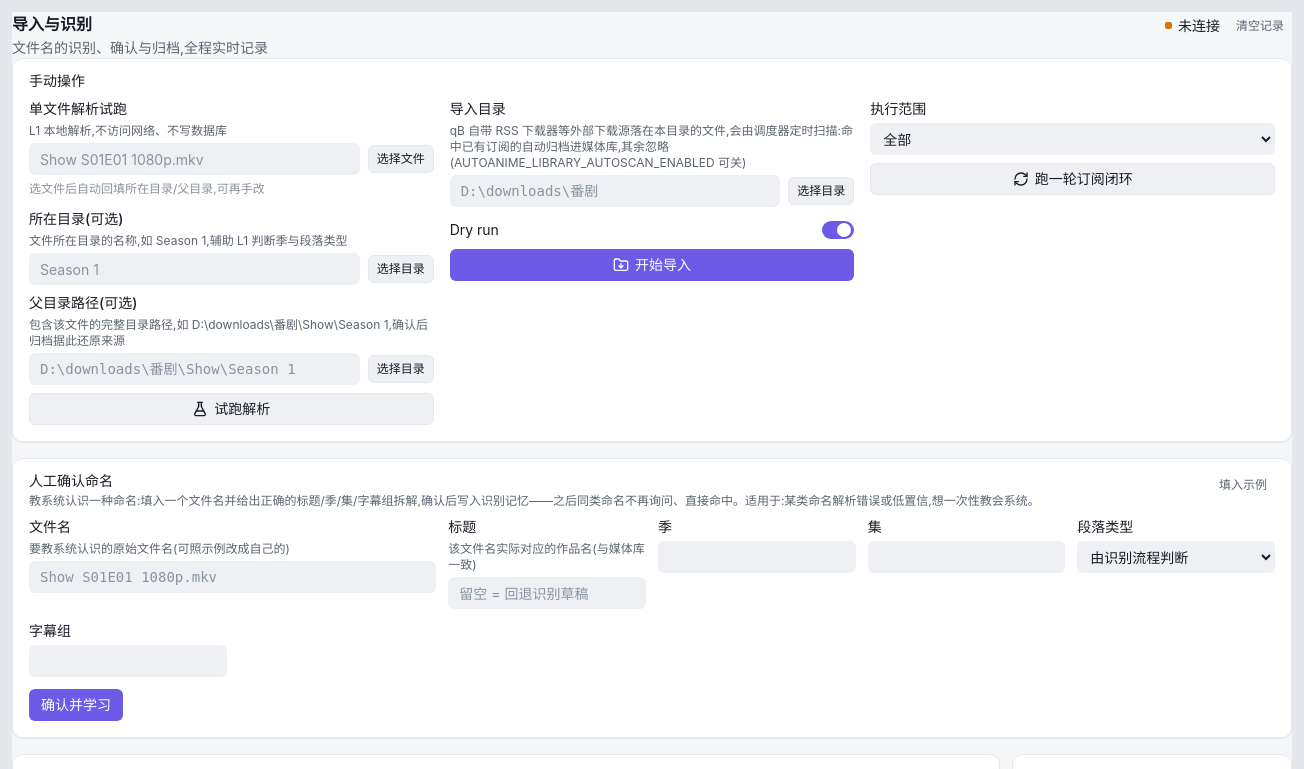
Test: PipelinePage › 12-F:人工确认命名 422 展示后端原因且不关闭表单
Step 1. Type "???.mkv" into the field labelled "文件名" → (233, 577), box [29,561,436,593]
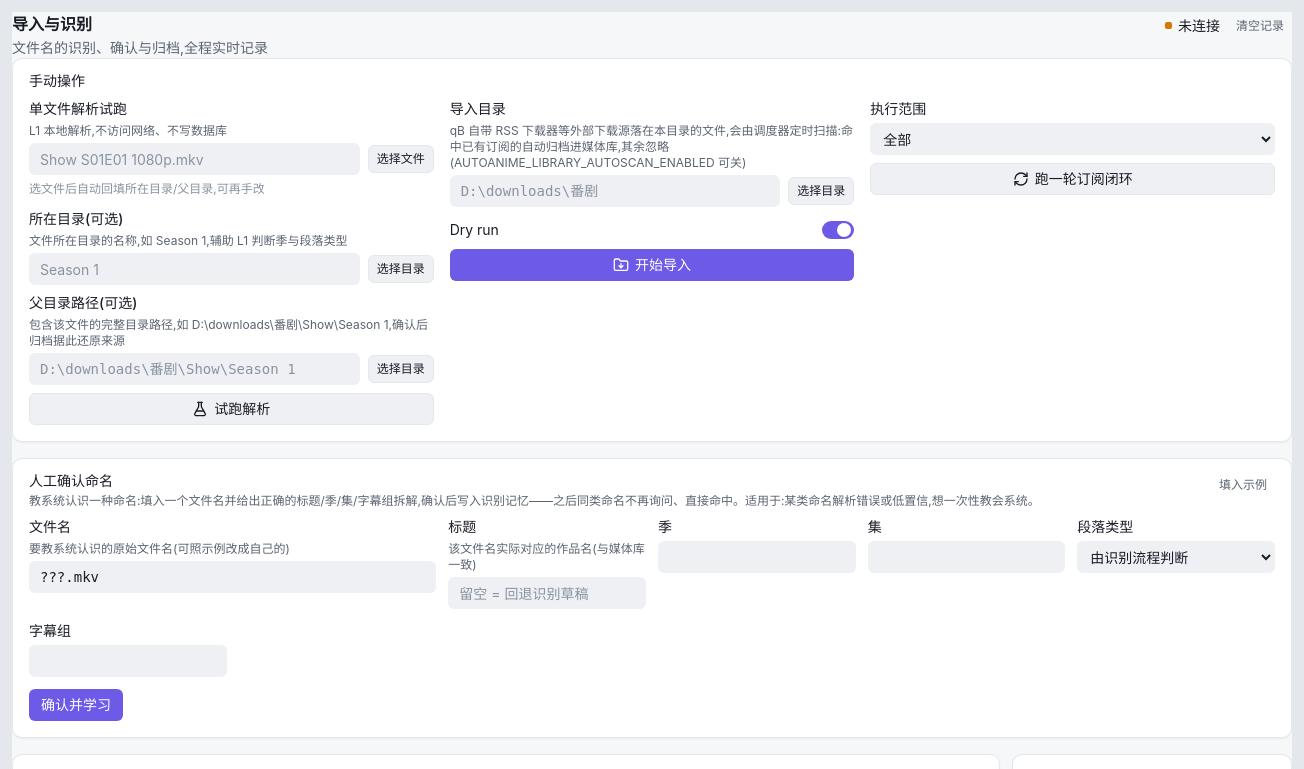
Step 2. Click the button "确认并学习" → click(76, 705), box [29,689,123,721]
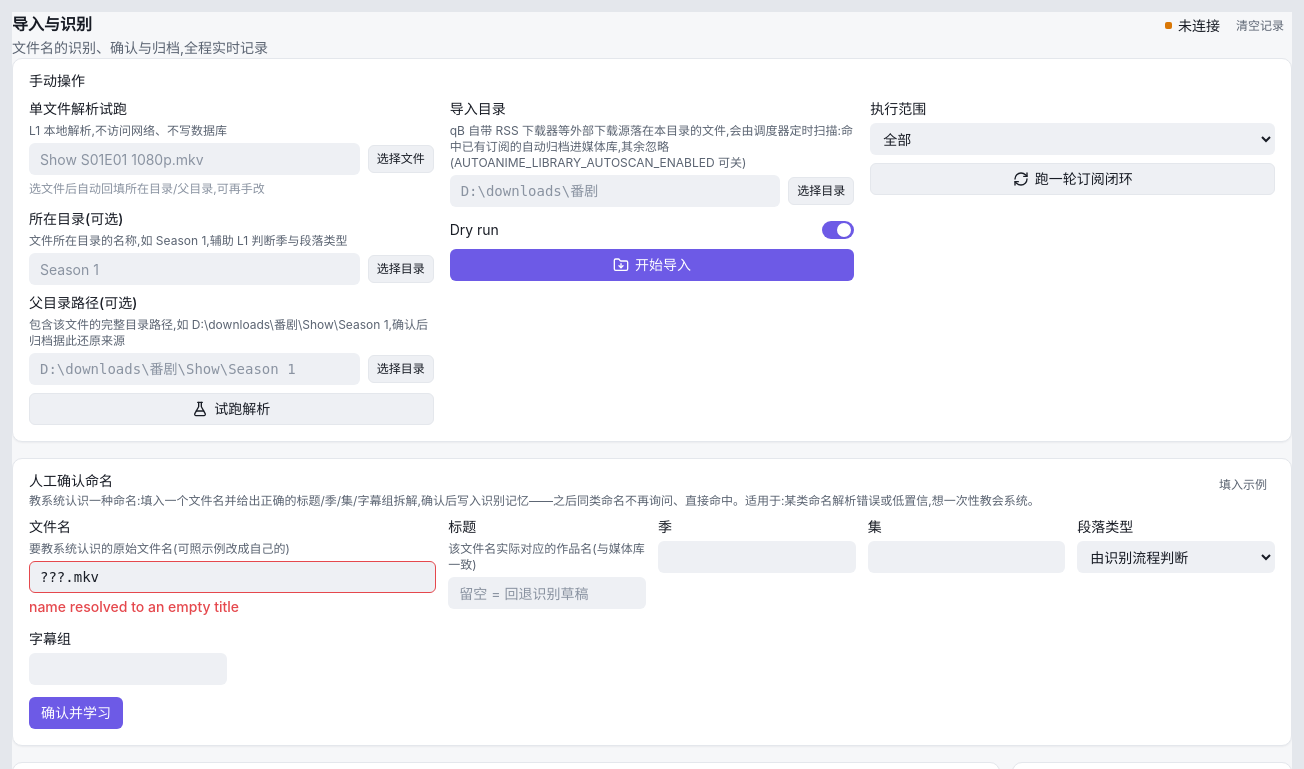
Expected: the text "name resolved to an empty title" is shown, [29,598,239,615]
